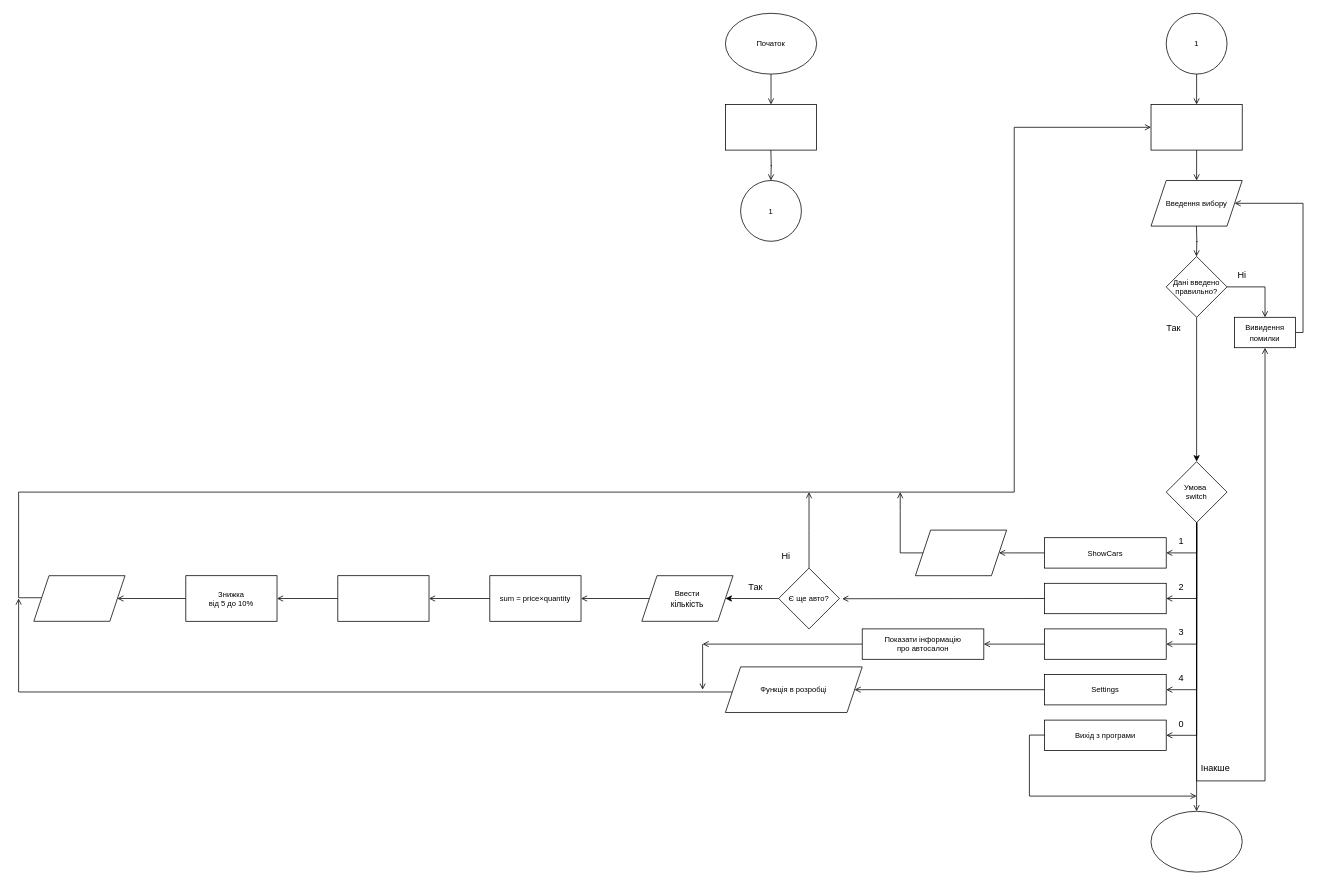
Image size: 1322x885. Some labels were removed from this diagram. Here are the shapes that lost their labels. From the top down, the centre of each, then its label:
the point at 771,127: Ініціалізація масивів
the point at 1196,127: Вивести меню
the point at 961,552: Виведення авто в наявності
the point at 79,598: Виведення результату
the point at 383,598: AddToTotal(sum)
the point at 1105,598: Calculate Purchase
the point at 1105,643: ShowInfo
the point at 1196,841: Кінець
